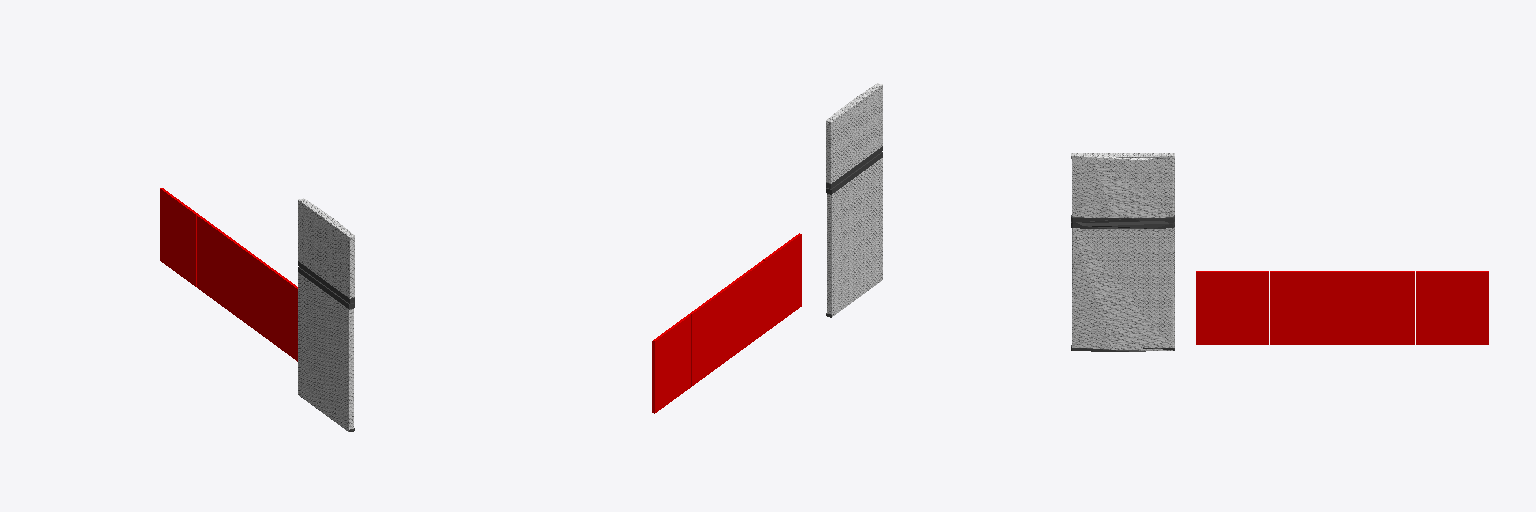
3 views of the same model, side by side, from view 1: azimuth 30°, elevation 25°; view 2: azimuth 150°, elevation 25°; view 3: azimuth 270°, elevation 25° (orthographic).
Parts seen in each view (by area): view 1: bingxiang_door2, bingxiang_door1, cupboard_door4, cupboard_door2, cupboard_door3, cupboard_door1; view 2: bingxiang_door2, bingxiang_door1, cupboard_door4, cupboard_door1, cupboard_door3, cupboard_door2; view 3: bingxiang_door2, bingxiang_door1, cupboard_door4, cupboard_door3, cupboard_door1, cupboard_door2.
Boxes of the visible parts, x1,y1,x2,y2 form: bingxiang_door2: [298, 267, 354, 431]; bingxiang_door1: [298, 198, 354, 303]; cupboard_door4: [160, 188, 198, 286]; cupboard_door2: [233, 241, 271, 340]; cupboard_door3: [197, 215, 234, 313]; cupboard_door1: [270, 268, 297, 361]; bingxiang_door2: [826, 152, 882, 317]; bingxiang_door1: [826, 83, 882, 188]; cupboard_door4: [652, 314, 690, 413]; cupboard_door1: [763, 233, 801, 332]; cupboard_door3: [690, 287, 727, 386]; cupboard_door2: [727, 260, 764, 359]; bingxiang_door2: [1071, 221, 1174, 351]; bingxiang_door1: [1071, 153, 1174, 222]; cupboard_door4: [1416, 271, 1488, 344]; cupboard_door3: [1342, 271, 1414, 344]; cupboard_door1: [1196, 271, 1268, 344]; cupboard_door2: [1270, 271, 1341, 344].
Size of the model in its own units: 18.02 by 153 by 297.
Materials: 3 (1 with a texture image).